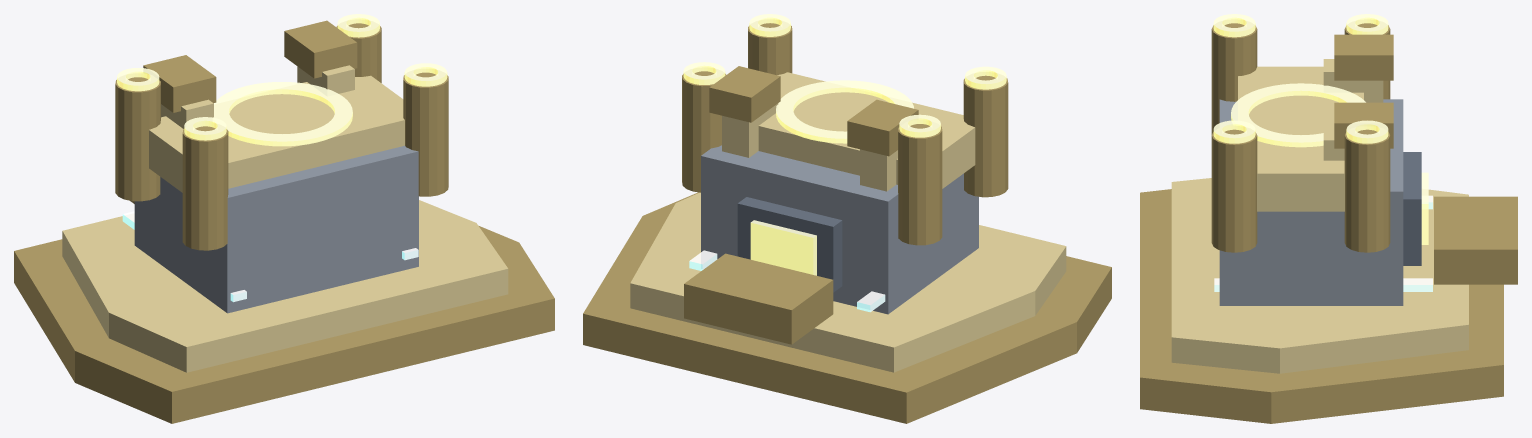
The model's file is helias_forge.glb.
3 views of the same model, side by side, from view 1: azimuth 30°, elevation 25°; view 2: azimuth 150°, elevation 25°; view 3: azimuth 270°, elevation 25° (orthographic). The views are drawn at different scales.
Visible parts, largest first — view 1: forge_foundation_000, forge_floor_001, main_smithy_002, gold_shell_003, heat_vent_011, heat_vent_013, heat_vent_015, heat_pulse_021, press_head_010, press_head_008, heat_vent_017, press_column_009 (+5 smaller); view 2: forge_foundation_000, forge_floor_001, main_smithy_002, front_anvil_006, gold_shell_003, heat_vent_013, heat_vent_011, forge_mouth_004, heat_vent_017, press_head_010, heat_pulse_021, molten_core_005 (+8 smaller); view 3: forge_foundation_000, forge_floor_001, main_smithy_002, gold_shell_003, front_anvil_006, heat_vent_017, heat_vent_015, heat_vent_011, heat_pulse_021, press_head_008, forge_mouth_004, press_head_010 (+8 smaller).
Boxes of the visible parts, <box> form: forge_foundation_000: <box>14,226,554,423</box>; forge_floor_001: <box>62,200,508,372</box>; main_smithy_002: <box>134,145,418,313</box>; gold_shell_003: <box>149,75,404,192</box>; heat_vent_011: <box>182,126,228,250</box>; heat_vent_013: <box>115,77,160,201</box>; heat_vent_015: <box>403,72,448,196</box>; heat_pulse_021: <box>213,82,352,146</box>; press_head_010: <box>284,20,357,78</box>; press_head_008: <box>143,55,216,112</box>; heat_vent_017: <box>336,23,381,82</box>; press_column_009: <box>297,65,354,93</box>; forge_foundation_000: <box>583,192,1111,423</box>; forge_floor_001: <box>630,192,1066,372</box>; main_smithy_002: <box>701,145,978,314</box>; front_anvil_006: <box>684,253,833,344</box>; gold_shell_003: <box>758,72,975,188</box>; heat_vent_013: <box>898,124,942,245</box>; heat_vent_011: <box>963,75,1008,197</box>; forge_mouth_004: <box>737,197,842,292</box>; heat_vent_017: <box>682,71,725,192</box>; press_head_010: <box>709,66,780,122</box>; heat_pulse_021: <box>776,80,913,143</box>; molten_core_005: <box>750,220,816,275</box>; forge_foundation_000: <box>1140,189,1503,423</box>; forge_floor_001: <box>1171,178,1468,373</box>; main_smithy_002: <box>1219,99,1403,305</box>; gold_shell_003: <box>1238,66,1363,211</box>; front_anvil_006: <box>1434,196,1517,284</box>; heat_vent_017: <box>1344,129,1390,252</box>; heat_vent_015: <box>1211,129,1257,252</box>; heat_vent_011: <box>1211,23,1257,134</box>; heat_pulse_021: <box>1231,83,1365,147</box>; press_head_008: <box>1334,34,1393,80</box>; forge_mouth_004: <box>1403,152,1421,265</box>; press_head_010: <box>1334,102,1393,148</box>.
Size of the model in its own units: 4 by 2.09 by 2.98.
